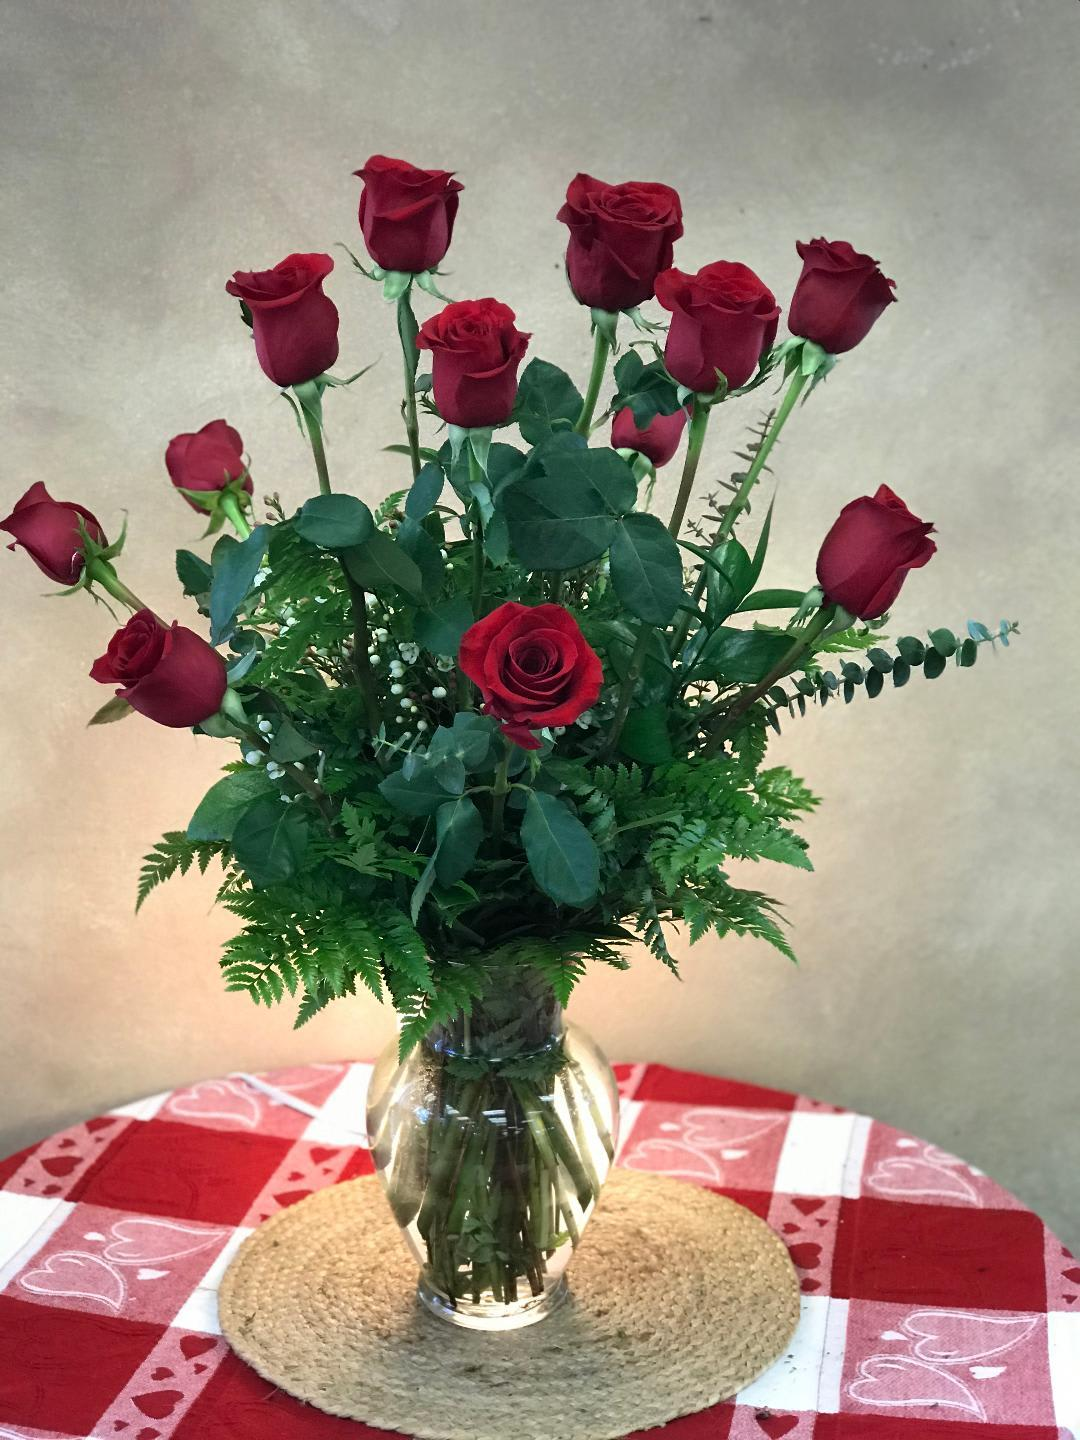Rose: (185, 237, 398, 397), (434, 577, 609, 763), (801, 464, 946, 659), (538, 141, 687, 310), (81, 594, 241, 749), (348, 107, 475, 296), (415, 283, 558, 444), (791, 207, 912, 381), (646, 261, 787, 398), (151, 407, 309, 528), (0, 457, 126, 602)
